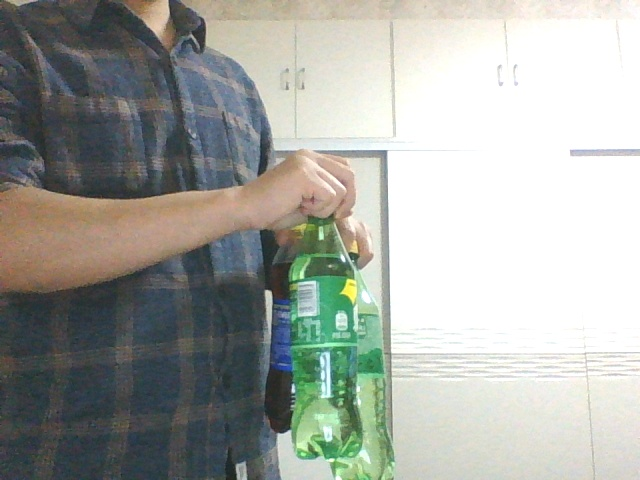Cola: (262, 214, 303, 435)
Sprite: (289, 206, 365, 460), (334, 238, 397, 479)
